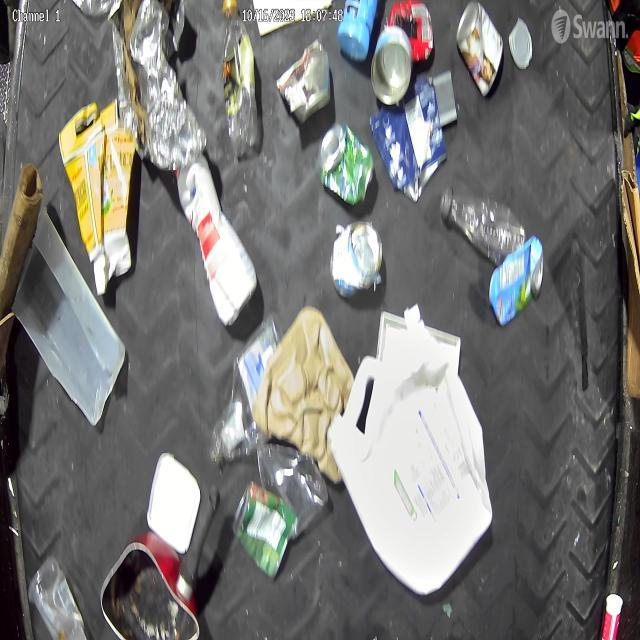can: (231, 485, 297, 580), (320, 121, 376, 208), (458, 1, 502, 94), (279, 40, 327, 114), (373, 28, 411, 94)
milk_jug: (336, 335, 492, 588)
plastic_bottle: (442, 188, 520, 258), (220, 0, 256, 147)
